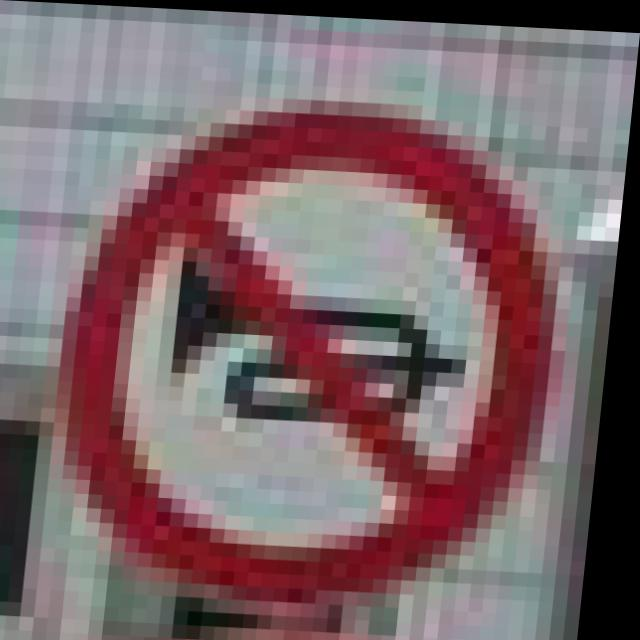HORN_PROHIBITED: (49, 103, 581, 605)
